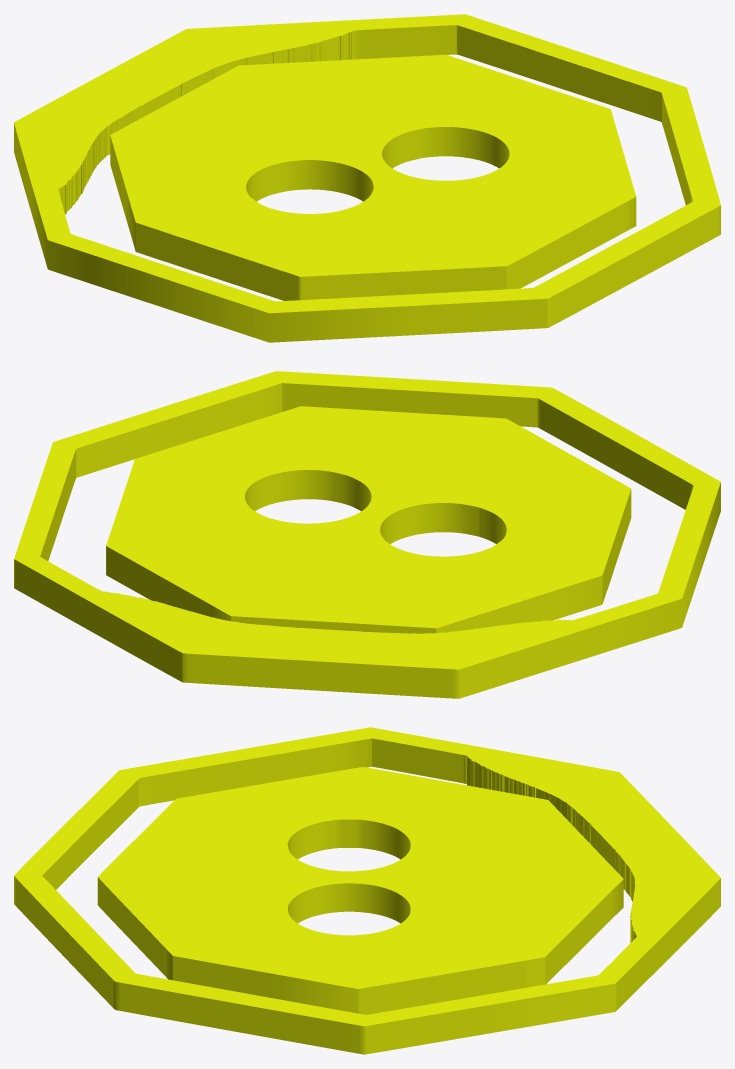
File: powerupamareloduplo.fbx
3 renders of one model, top to bottom at view 1: azimuth 30°, elevation 25°; view 2: azimuth 150°, elevation 25°; view 3: azimuth 270°, elevation 25°, orthographic. The views are drawn at different scales.
Parts seen in each view (by area): view 1: path1021; view 2: path1021; view 3: path1021.
Part boxes in pixels (x1=…): path1021: x1=14, y1=14, x2=720, y2=342; path1021: x1=14, y1=371, x2=720, y2=698; path1021: x1=14, y1=727, x2=720, y2=1054.
Size of the model in its own units: 533 by 23.53 by 532.
